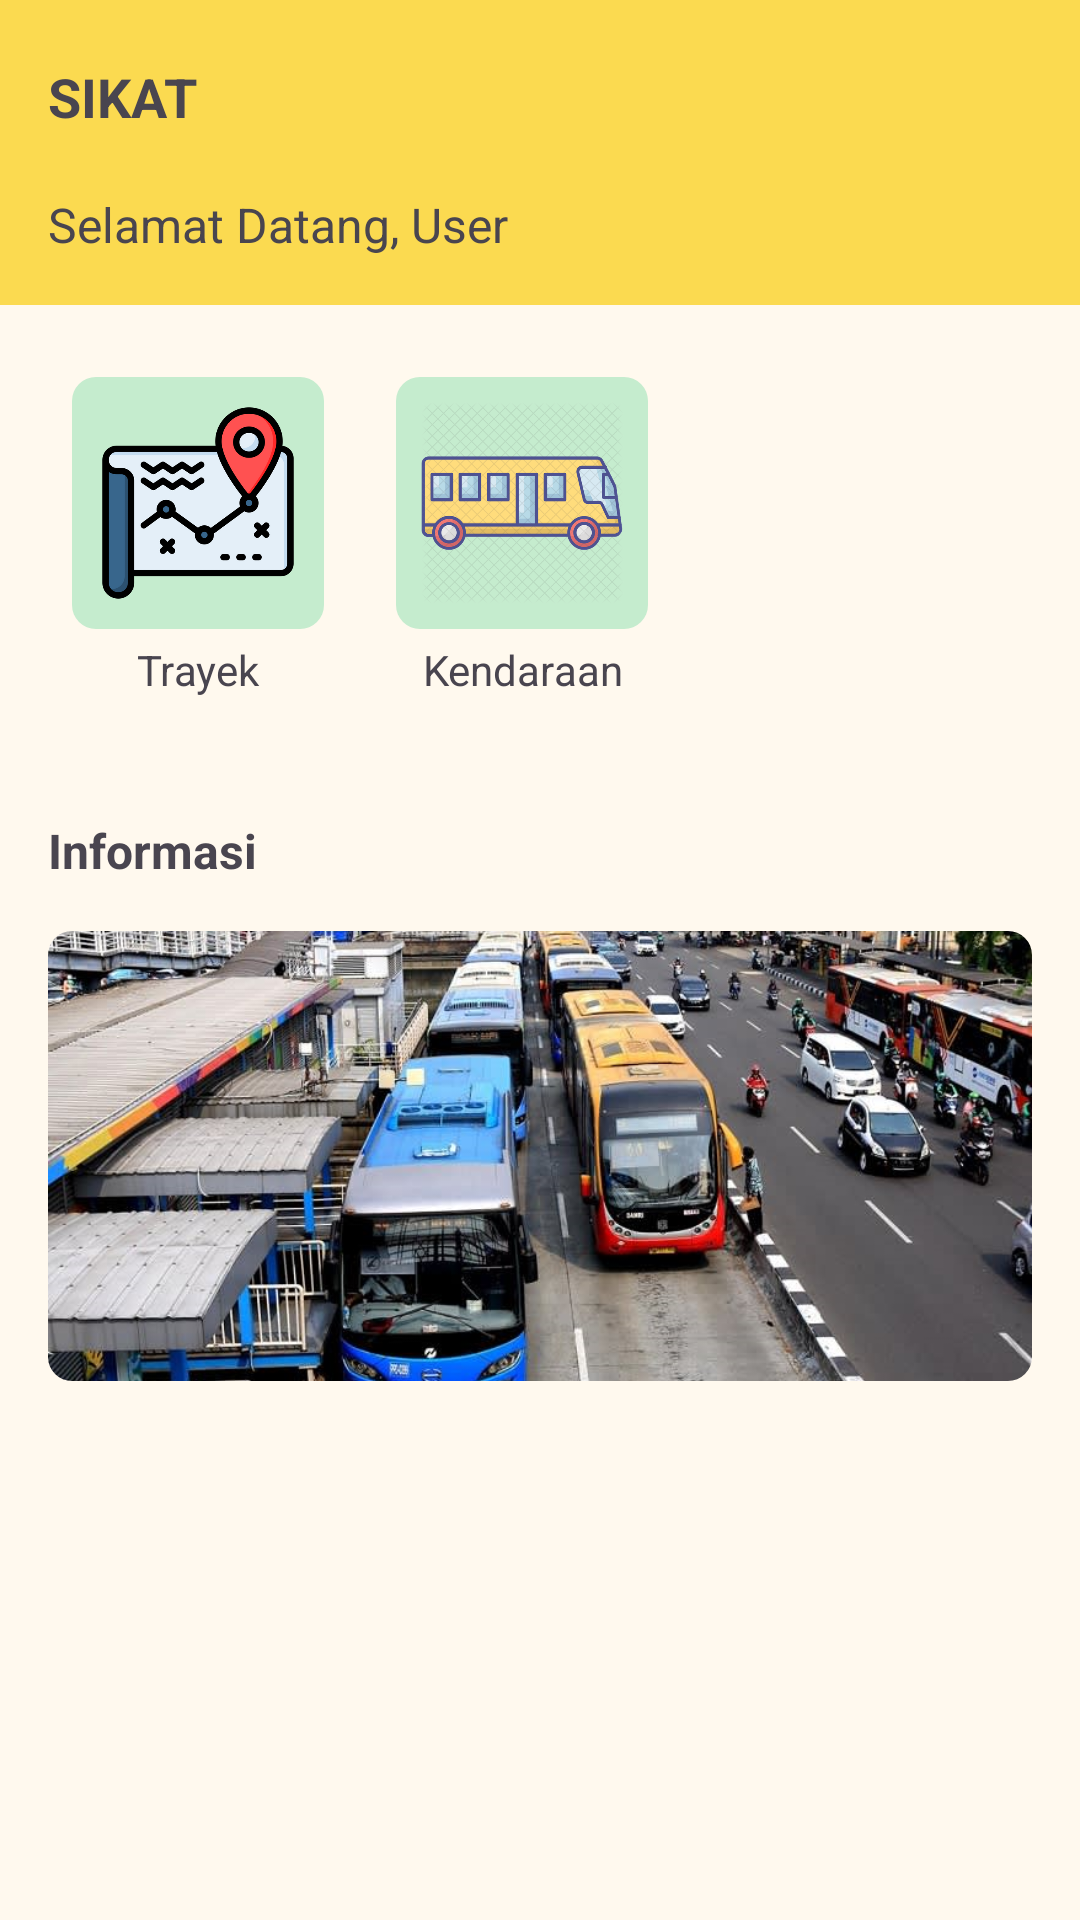

Named icons in this screenshot (1080×1920) and their bounding boxes, (x1, y1, x2, y2):
route: (102, 407, 294, 599)
